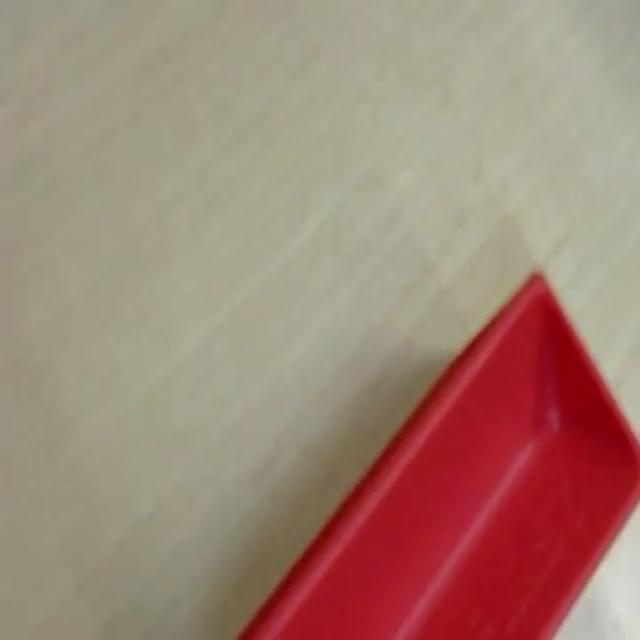red_block: (234, 268, 639, 637)
